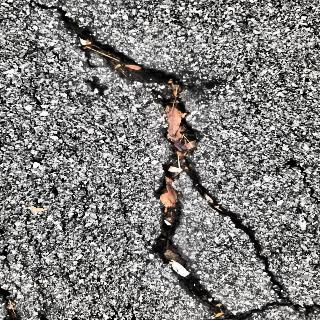alligator-crack: (36, 3, 308, 316)
